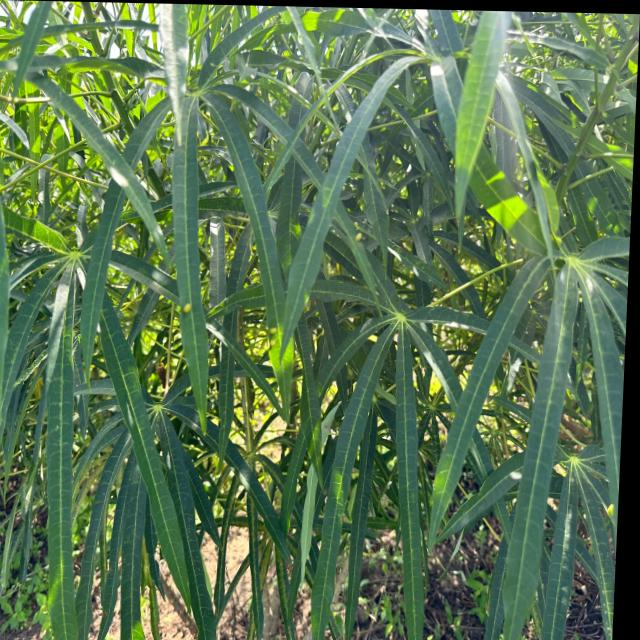Mosca: (531, 451, 570, 529), (137, 416, 174, 456), (594, 494, 629, 530), (171, 298, 201, 320)
